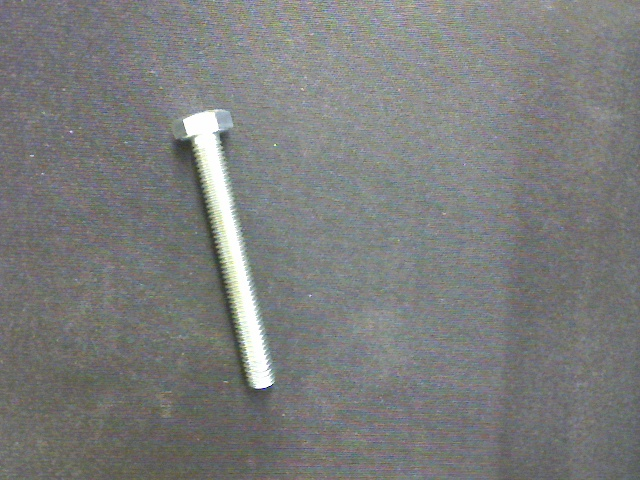screw: (171, 107, 277, 390)
